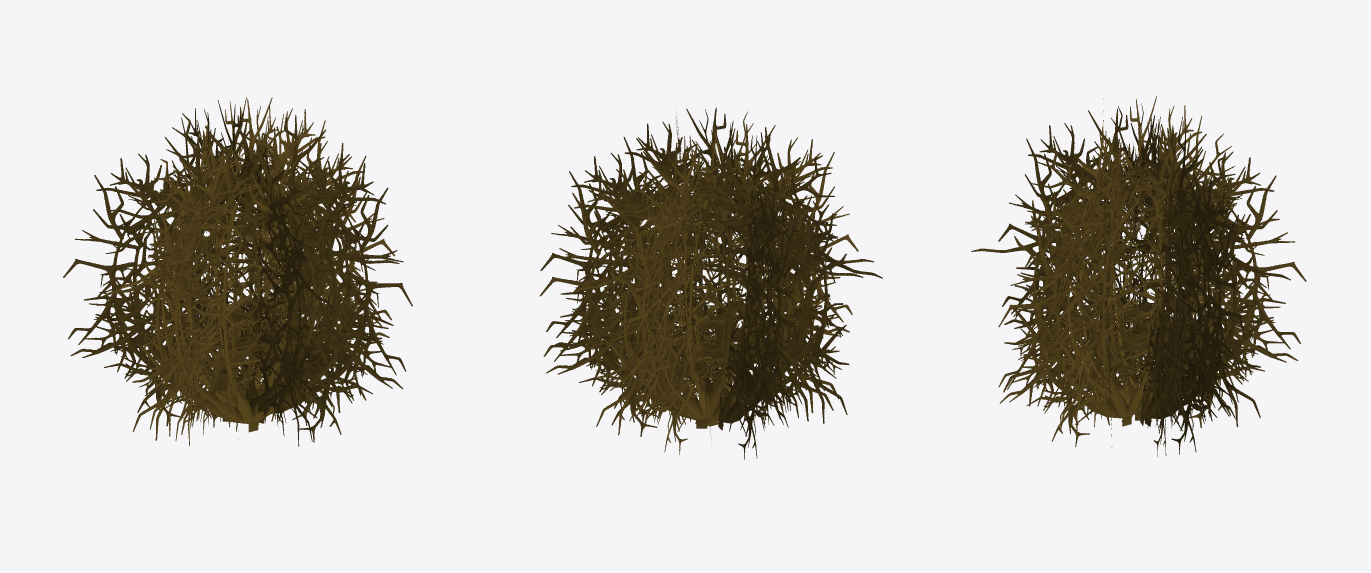
File: balla di fieno.fbx
3 views of the same model, side by side, from view 1: azimuth 30°, elevation 25°; view 2: azimuth 150°, elevation 25°; view 3: azimuth 270°, elevation 25° (orthographic).
Parts seen in each view (by area): view 1: Plane.049, Plane.044, Plane.046, Plane.045, Plane.050, Plane.047; view 2: Plane.047, Plane.050, Plane.048, Plane.045, Plane.049, Plane.044, Plane.046; view 3: Plane.046, Plane.045, Plane.048, Plane.047, Plane.049, Plane.050.
Boxes of the visible parts, x1,y1,x2,y2 form: Plane.049: [63, 130, 399, 426]; Plane.044: [101, 127, 395, 440]; Plane.046: [111, 111, 412, 442]; Plane.045: [164, 100, 332, 446]; Plane.050: [116, 97, 355, 436]; Plane.047: [147, 97, 298, 445]; Plane.047: [539, 142, 873, 436]; Plane.050: [540, 134, 863, 422]; Plane.048: [572, 124, 858, 435]; Plane.045: [622, 111, 768, 454]; Plane.049: [666, 109, 798, 459]; Plane.044: [592, 107, 882, 423]; Plane.046: [675, 117, 710, 436]; Plane.046: [998, 133, 1279, 446]; Plane.045: [971, 125, 1306, 427]; Plane.048: [998, 108, 1290, 426]; Plane.047: [1070, 106, 1245, 454]; Plane.049: [1028, 96, 1231, 437]; Plane.050: [1116, 103, 1199, 456].
Size of the model in its own units: 756 by 748 by 765.
